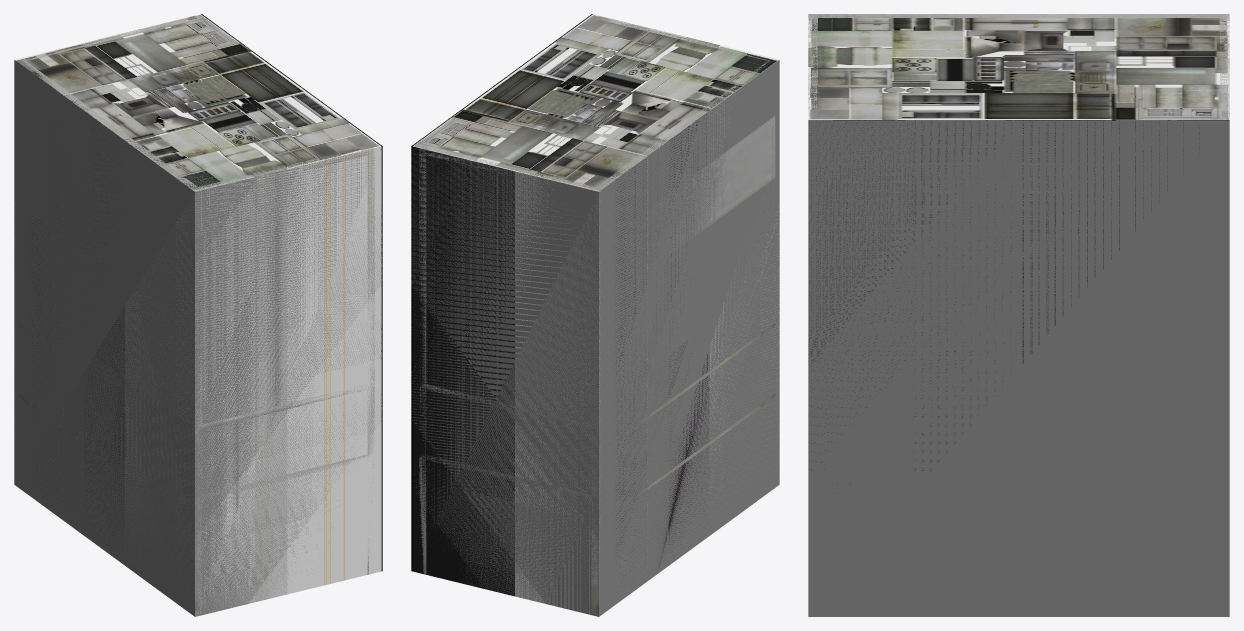
Rendered from foodcart.FBX.
3 views of the same model, side by side, from view 1: azimuth 30°, elevation 25°; view 2: azimuth 150°, elevation 25°; view 3: azimuth 270°, elevation 25° (orthographic). The views are drawn at different scales.
Visible parts, largest first — view 1: bounds, colbox-1, food_cart100; view 2: bounds, colbox-1, food_cart100; view 3: bounds, colbox-1, food_cart100.
Boxes of the visible parts, x1=… form: bounds: x1=14, y1=60, x2=382, y2=616; colbox-1: x1=14, y1=14, x2=382, y2=611; food_cart100: x1=18, y1=16, x2=374, y2=616; bounds: x1=411, y1=60, x2=779, y2=616; colbox-1: x1=411, y1=14, x2=779, y2=614; food_cart100: x1=419, y1=16, x2=775, y2=616; bounds: x1=808, y1=120, x2=1229, y2=616; colbox-1: x1=808, y1=17, x2=1229, y2=484; food_cart100: x1=808, y1=14, x2=1229, y2=116.
Size of the model in its own units: 67.14 by 145 by 112.
